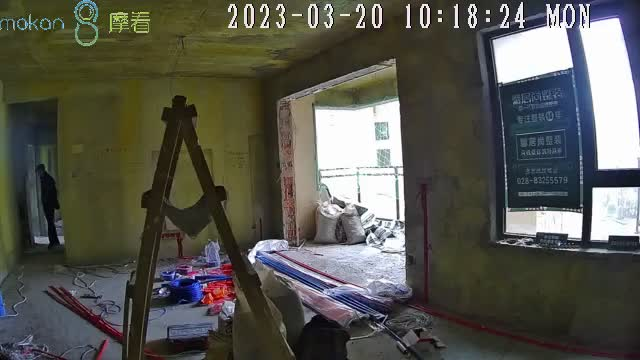people: (36, 163, 60, 250)
window: (485, 8, 640, 249), (311, 104, 406, 218)
